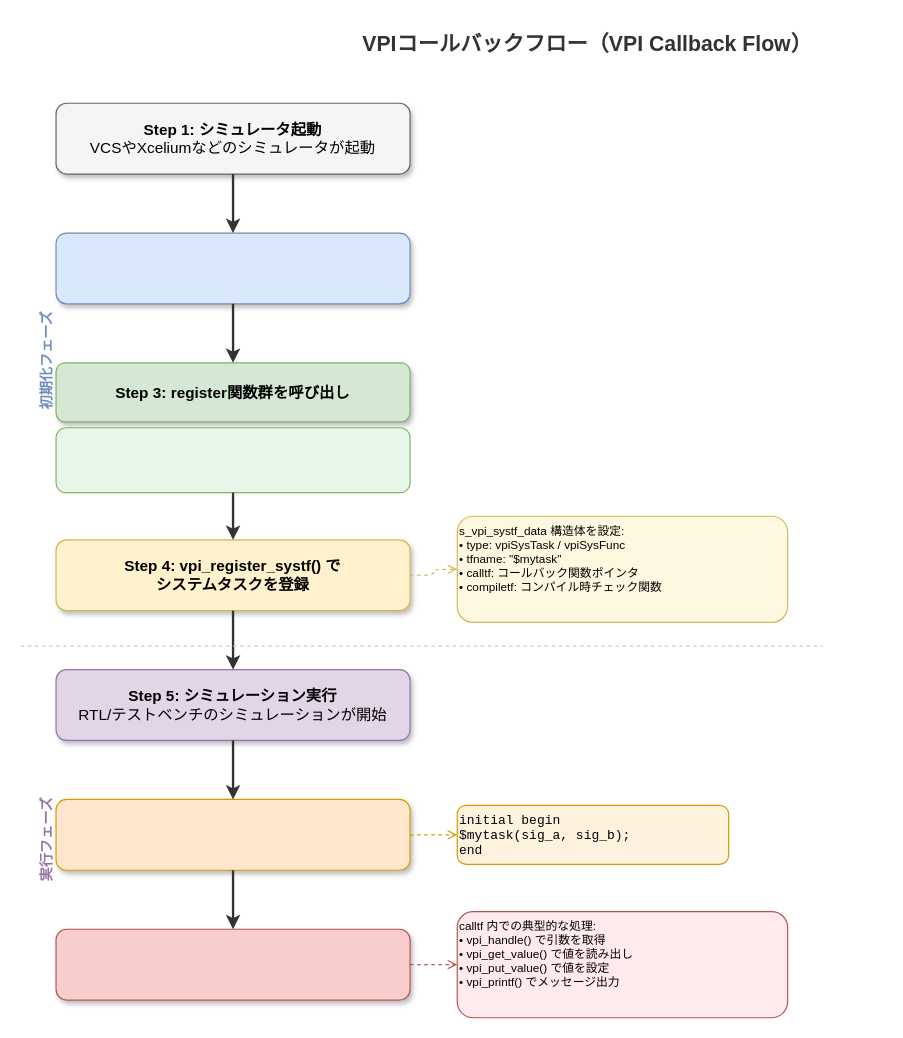
Image size: 903x1038. Some labels were removed from this diagram. Each missing label, with the centre of its shape:
Step 2: vlog_startup_routines[] を走査 共有ライブラリ内の初期化テーブルを検索: (x=233, y=269)
Step 6: SV側で $mytask() を呼び出し SystemVerilogコード内でシステムタスクを使用: (x=233, y=836)
Step 7: 登録された calltf 関数が実行される VPI経由でシミュレータ内部データにアクセス: (x=233, y=965)
• register_sig_info() • register_vpi_monitor() • register_dump_design(): (x=232, y=460)
